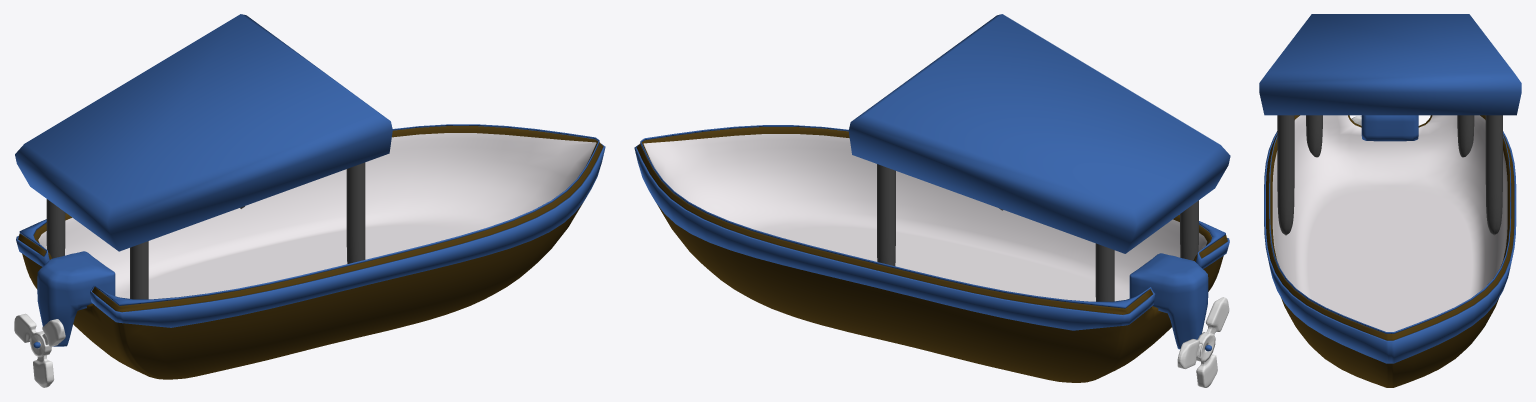
File: LVL 1 BOAT.fbx
The picture shows the model from 3 angles, left to right: view 1: azimuth 30°, elevation 25°; view 2: azimuth 150°, elevation 25°; view 3: azimuth 270°, elevation 25°; orthographic projection. The views are drawn at different scales.
Visible parts, largest first — view 1: Lvl 1 Boat, Color - Boat accent, Color - Engine, Roof support, Propeler; view 2: Lvl 1 Boat, Color - Boat accent, Color - Engine, Roof support, Propeler; view 3: Lvl 1 Boat, Color - Boat accent, Roof support, Color - Engine.
Boxes of the visible parts, x1,y1,x2,y2 form: Lvl 1 Boat: (18, 126, 603, 379); Color - Boat accent: (15, 14, 605, 327); Color - Engine: (37, 251, 115, 346); Roof support: (46, 162, 365, 299); Propeler: (14, 313, 65, 387); Lvl 1 Boat: (636, 127, 1227, 382); Color - Boat accent: (634, 14, 1230, 330); Color - Engine: (1129, 253, 1208, 349); Roof support: (877, 164, 1198, 301); Propeler: (1177, 297, 1229, 387); Lvl 1 Boat: (1266, 115, 1514, 387); Color - Boat accent: (1259, 14, 1521, 363); Roof support: (1277, 115, 1502, 235); Color - Engine: (1361, 115, 1418, 141).
Bounding box in the file's own units: 306 × 139 × 135.
